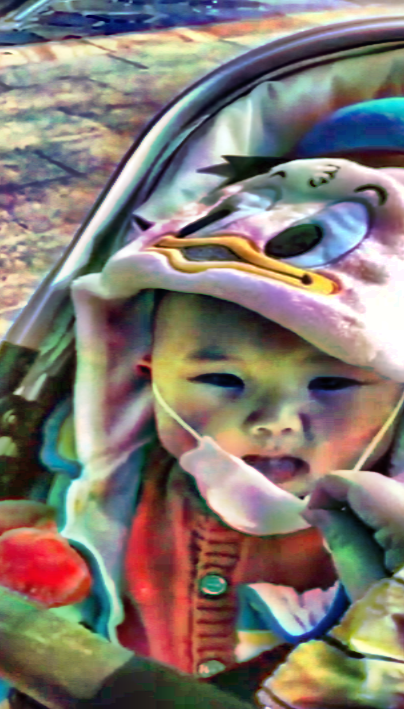mask_weared_incorrect: (127, 272, 403, 539)
